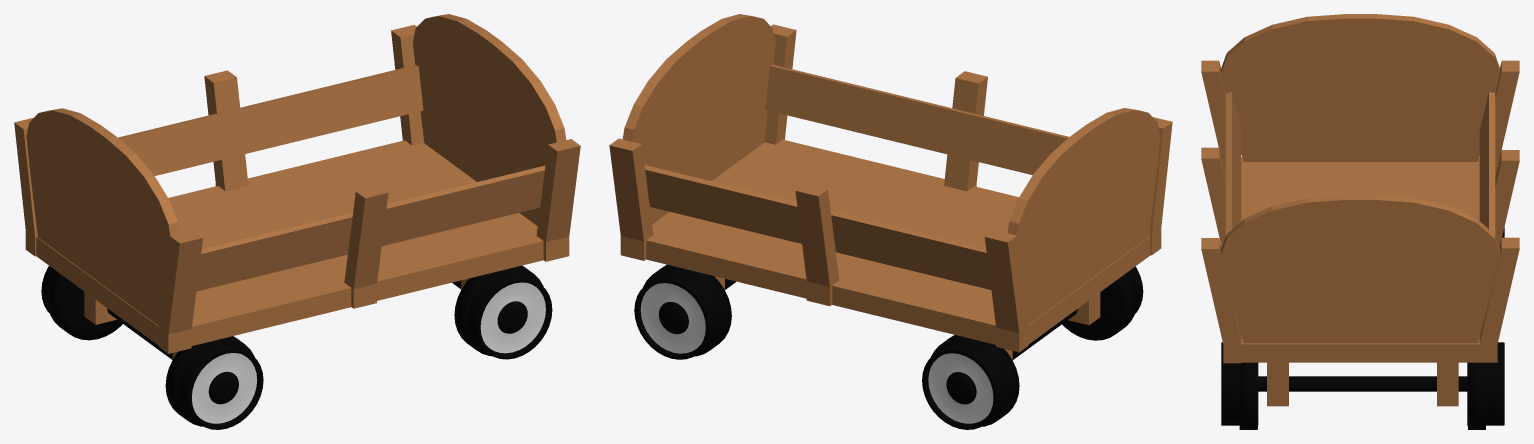
File: ACart.fbx
The picture shows the model from 3 angles, left to right: view 1: azimuth 30°, elevation 25°; view 2: azimuth 150°, elevation 25°; view 3: azimuth 270°, elevation 25°; orthographic projection. The views are drawn at different scales.
Visible parts, largest first — view 1: Trolly, Front tyer, Back_tyer; view 2: Trolly, Front tyer, Back_tyer; view 3: Trolly, Back_tyer.
Boxes of the visible parts, x1,y1,x2,y2 form: Trolly: [14, 14, 580, 359]; Front tyer: [41, 266, 263, 429]; Back_tyer: [452, 265, 552, 359]; Trolly: [609, 14, 1172, 359]; Front tyer: [922, 266, 1143, 429]; Back_tyer: [634, 264, 735, 359]; Trolly: [1201, 14, 1519, 406]; Back_tyer: [1221, 342, 1504, 429].
Size of the model in its own units: 30.75 by 19.07 by 21.99.
